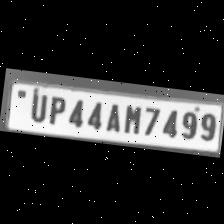4: (156, 104, 181, 138), (63, 94, 87, 127), (82, 96, 104, 129)
7: (138, 101, 160, 135)
9: (176, 106, 200, 140), (194, 107, 218, 141)
A: (100, 98, 122, 132)
M: (118, 100, 143, 134)
P: (42, 92, 66, 124)
U: (24, 88, 49, 122)
